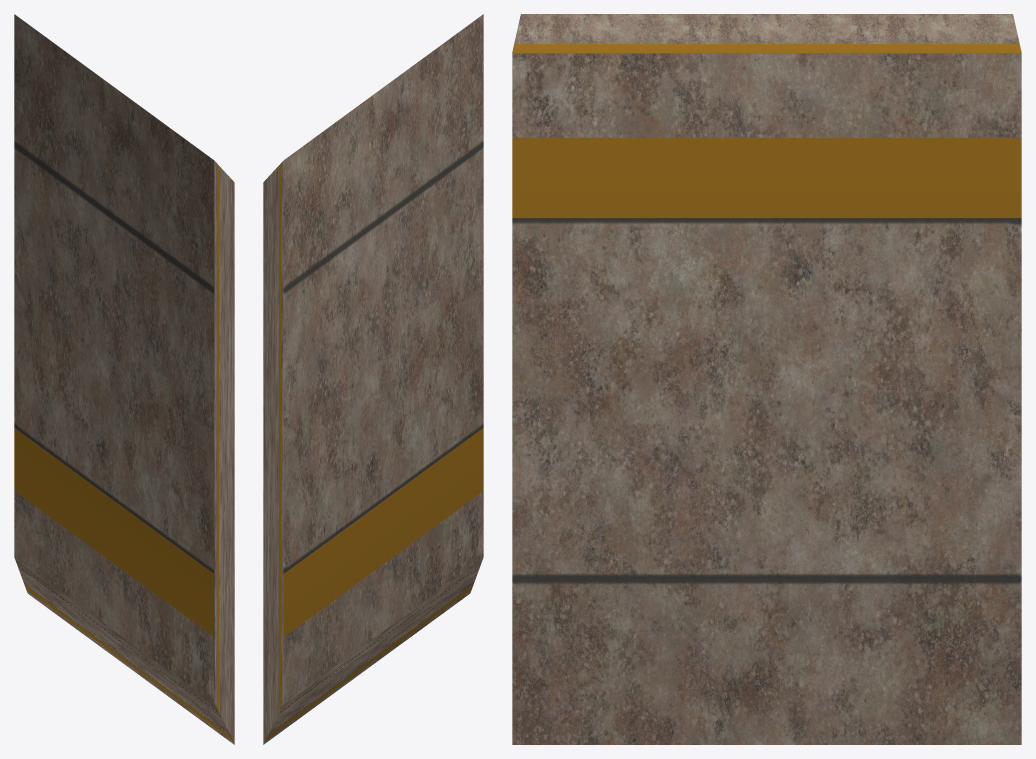
File: SM_Circular_Wall_Bottom.gltf
3 views of the same model, side by side, from view 1: azimuth 30°, elevation 25°; view 2: azimuth 150°, elevation 25°; view 3: azimuth 270°, elevation 25° (orthographic). The views are drawn at different scales.
Visible parts, largest first — view 1: SM_WetHallProps_JFG_OuterWall_Bottom_M_Trim_JFG_Rocks_Wet_0.; view 2: SM_WetHallProps_JFG_OuterWall_Bottom_M_Trim_JFG_Rocks_Wet_0.; view 3: SM_WetHallProps_JFG_OuterWall_Bottom_M_Trim_JFG_Rocks_Wet_0..
Part boxes in pixels (left/top/right/bottom): SM_WetHallProps_JFG_OuterWall_Bottom_M_Trim_JFG_Rocks_Wet_0.: left=14, top=14, right=234, bottom=744; SM_WetHallProps_JFG_OuterWall_Bottom_M_Trim_JFG_Rocks_Wet_0.: left=263, top=14, right=483, bottom=744; SM_WetHallProps_JFG_OuterWall_Bottom_M_Trim_JFG_Rocks_Wet_0.: left=512, top=14, right=1021, bottom=744.
Size of the model in its own units: 0.6334 by 20.83 by 13.35.
1 material, 1 textured.
